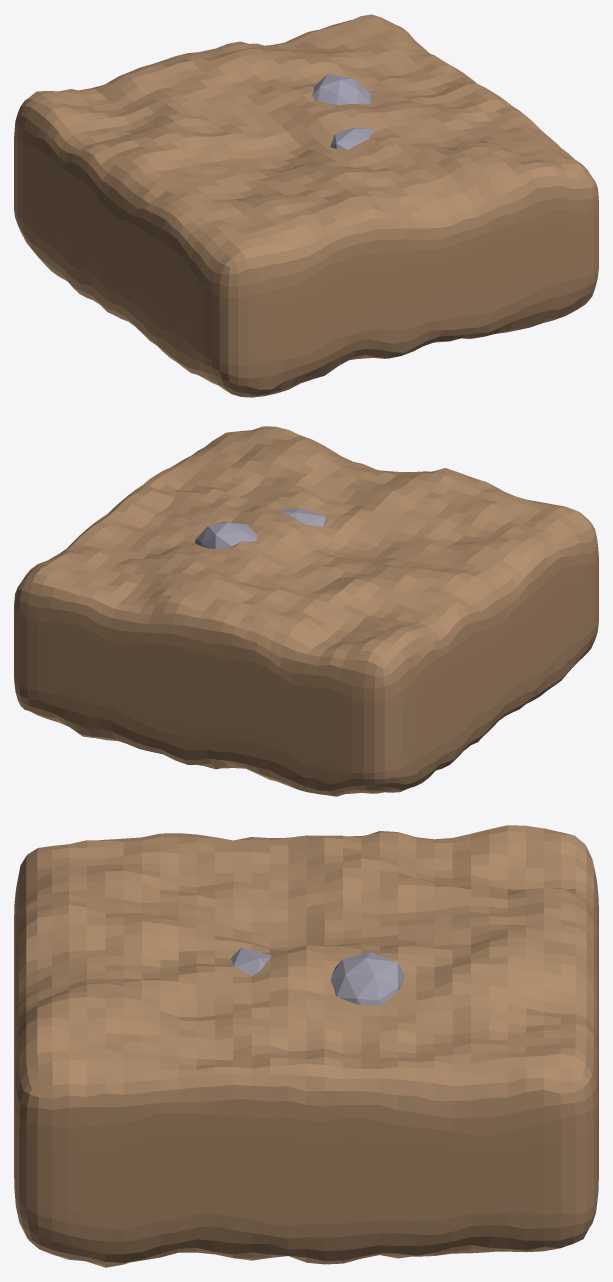
File: dirt1.fbx
3 views of the same model, one above another, from view 1: azimuth 30°, elevation 25°; view 2: azimuth 150°, elevation 25°; view 3: azimuth 270°, elevation 25° (orthographic). The views are drawn at different scales.
Parts seen in each view (by area): view 1: Cube, Icosphere.001, Icosphere; view 2: Cube, Icosphere.001, Icosphere; view 3: Cube, Icosphere.001, Icosphere.
Boxes of the visible parts, box(x1,y1,x2,y2) form: Cube: box(14, 14, 598, 397); Icosphere.001: box(312, 74, 371, 105); Icosphere: box(330, 128, 374, 149); Cube: box(14, 426, 598, 796); Icosphere.001: box(195, 521, 257, 548); Icosphere: box(280, 508, 327, 526); Cube: box(14, 825, 598, 1267); Icosphere.001: box(331, 952, 404, 1006); Icosphere: box(231, 947, 271, 975).
Size of the model in its own units: 200 by 91.06 by 200.
